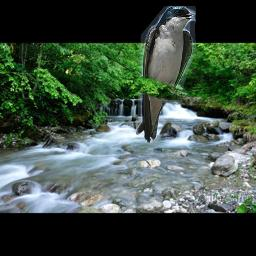Swallow: (136, 6, 196, 143)
